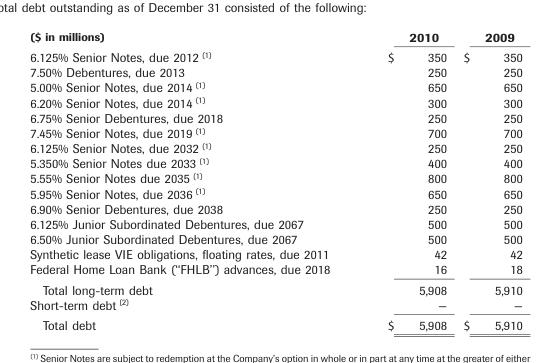table: (29, 28, 521, 332)
table column: (29, 28, 358, 332), (358, 28, 454, 332), (454, 28, 521, 332)
table column header: (29, 28, 521, 46)
table row: (29, 28, 521, 46), (29, 46, 521, 64), (29, 261, 521, 279), (29, 296, 521, 314), (29, 314, 521, 332), (29, 279, 521, 296), (29, 124, 521, 140), (29, 215, 521, 231), (29, 64, 521, 79), (29, 79, 521, 94), (29, 94, 521, 109), (29, 109, 521, 124), (29, 140, 521, 155), (29, 155, 521, 170), (29, 170, 521, 185), (29, 185, 521, 200), (29, 200, 521, 215), (29, 231, 521, 246), (29, 246, 521, 261)
